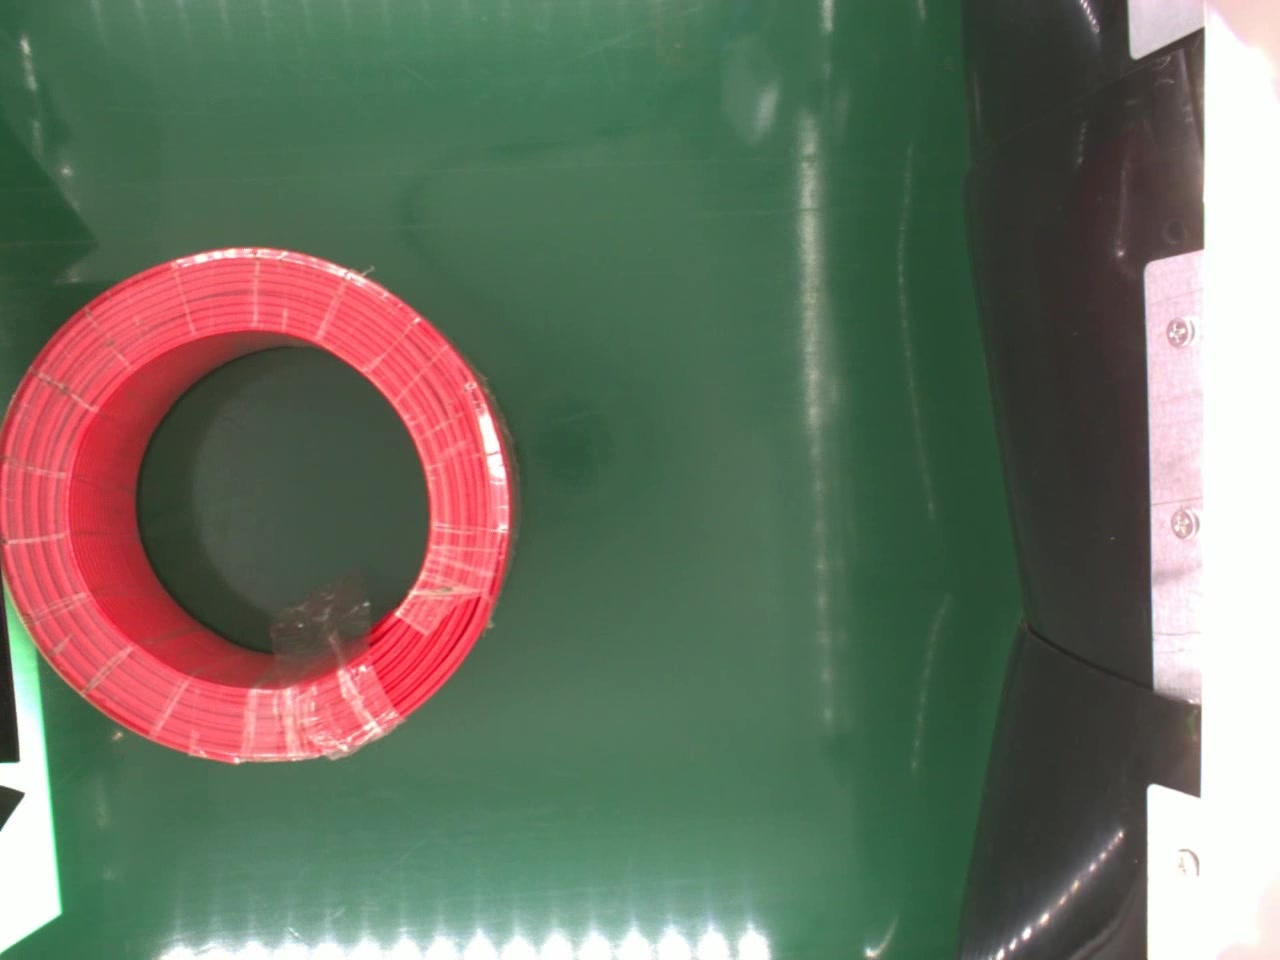red: (0, 245, 519, 765)
